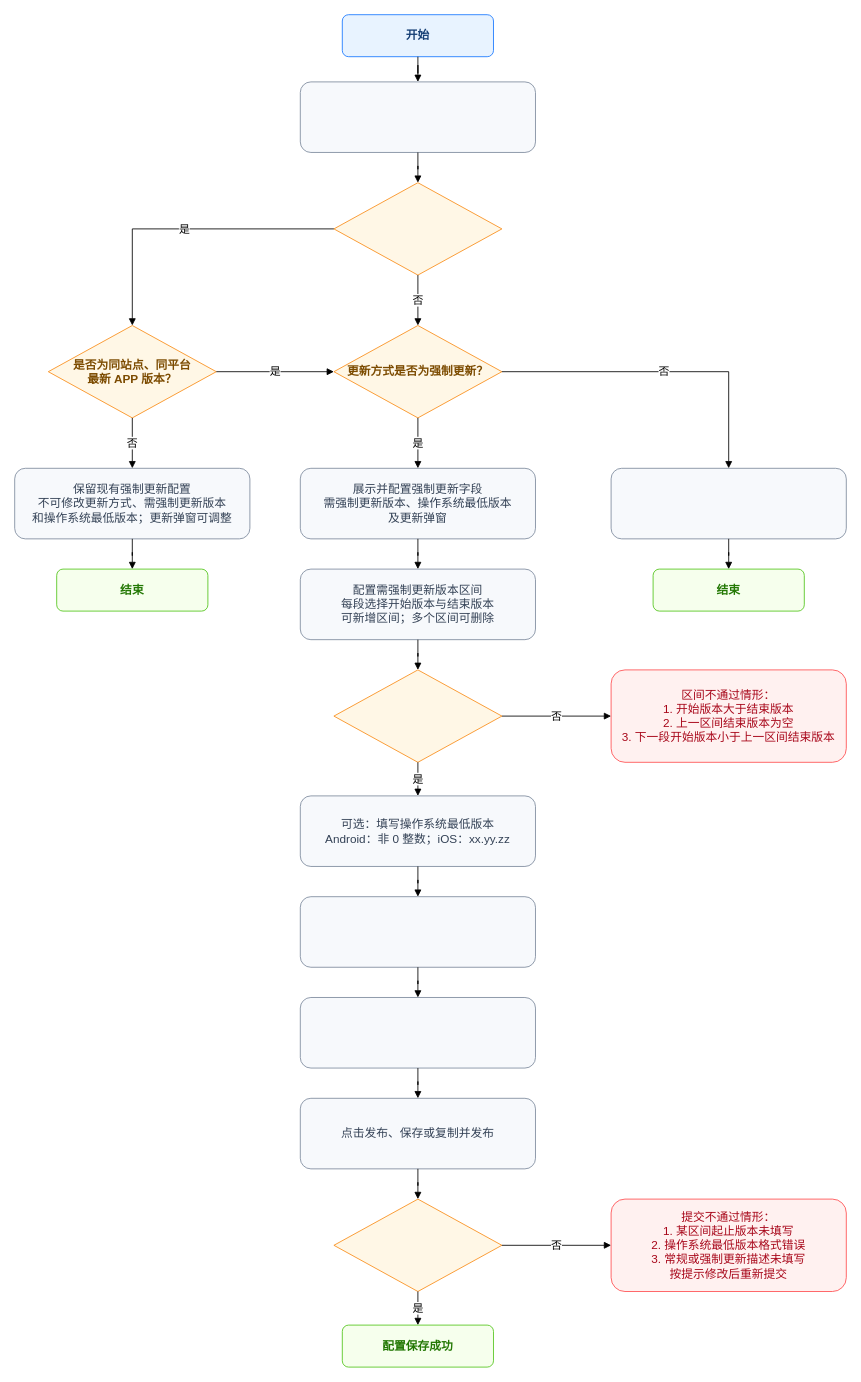
Some shapes in this 861 by 1382 pixel diagram are drawn without their labels. The shapes that lost their labels are listed below. From the top down, each one's centre as x and y in pixels, then its label:
pixel 417 116: 进入发布新版本、复制版本 或查看与编辑页面
pixel 417 228: 是否为查看与编辑页面？
pixel 728 503: 按非强制更新逻辑配置
pixel 417 715: 区间实时校验是否通过？
pixel 417 931: 配置更新弹窗 强制更新弹窗默认勾选且不可取消 非强制更新弹窗可按需勾选
pixel 417 1032: 填写 18 种语言描述 APP 版本更新描述与 APP 强制更新描述均必填
pixel 417 1245: 提交校验是否通过？
